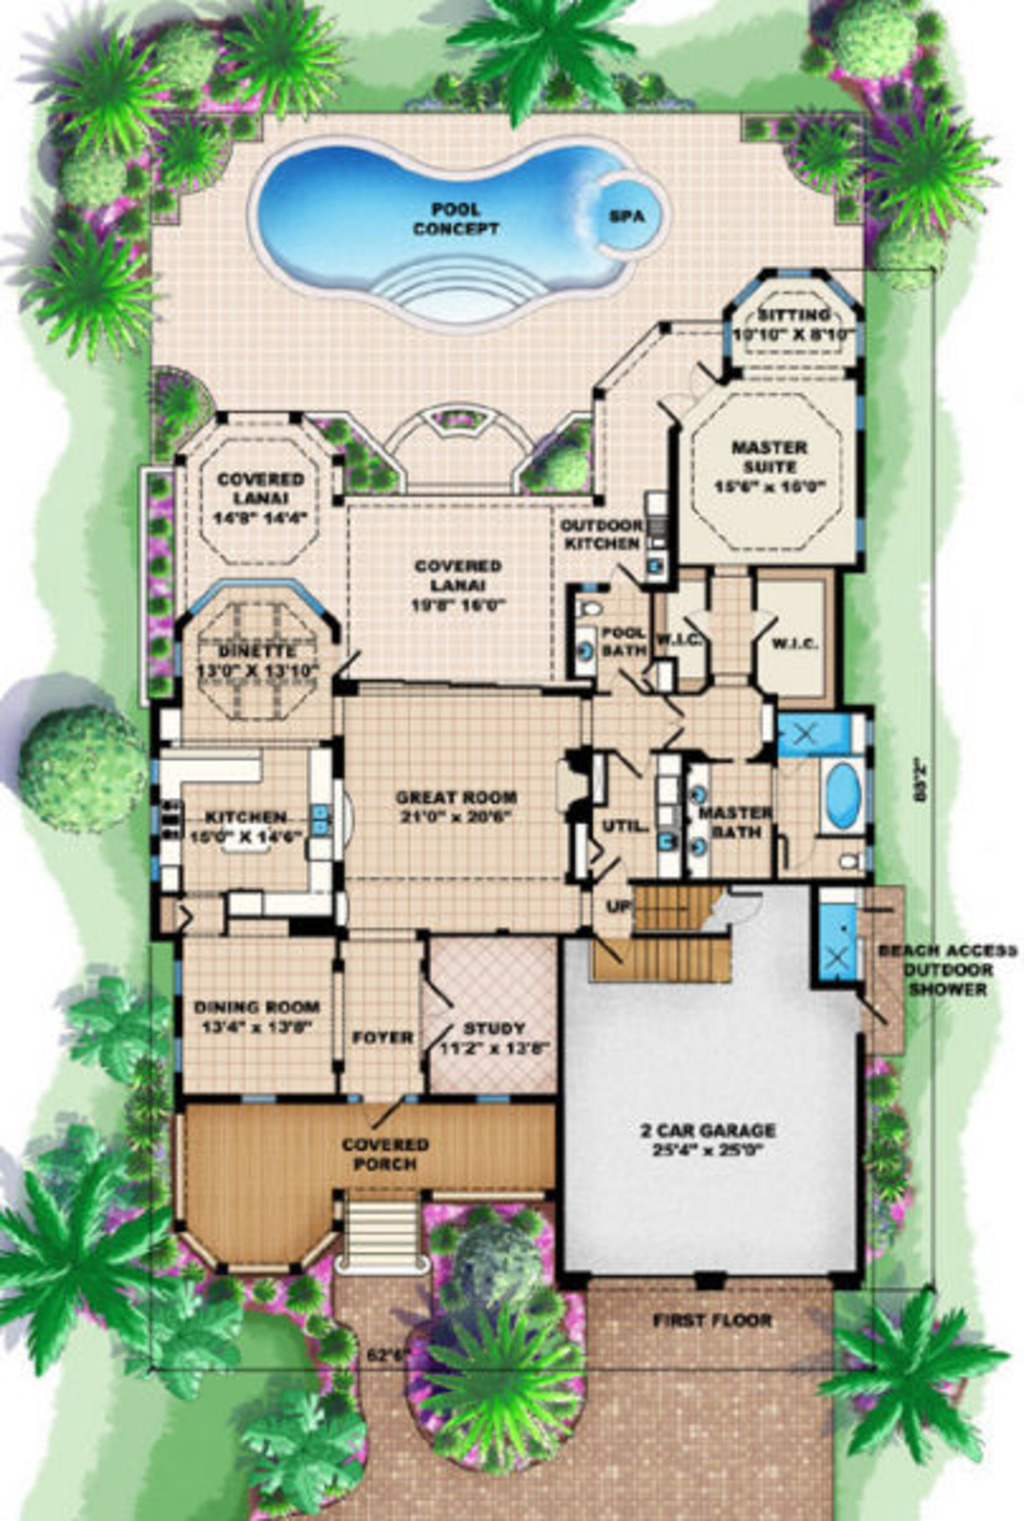door: (405, 972, 455, 1055), (653, 363, 725, 421)
small_sink: (567, 622, 598, 674)
stairs: (584, 882, 737, 992), (337, 1190, 430, 1284)
tub: (821, 753, 872, 840)
windows: (169, 953, 187, 1080)
